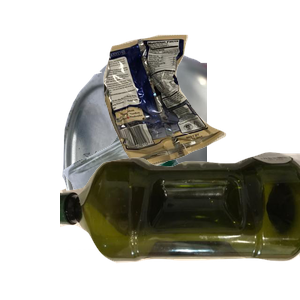glass: (60, 120, 300, 300)
metal: (60, 44, 300, 224)
plastic: (60, 149, 300, 300)
trash: (101, 32, 300, 195)
